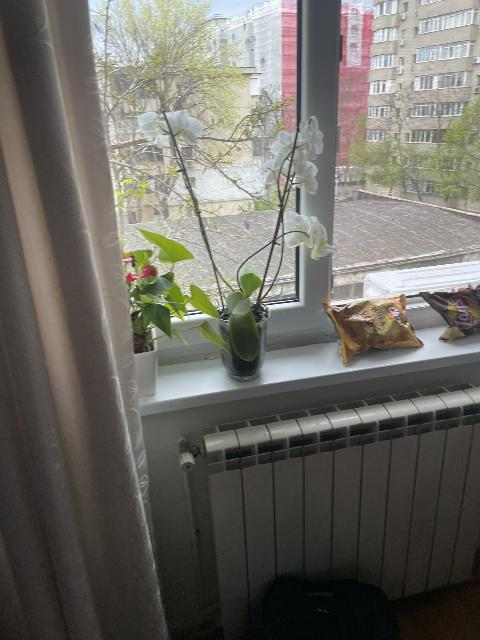Chio Hula Hoops Cheese 70g: (325, 294, 421, 364)
Lays Beef Grilled Ribs 125g: (417, 283, 480, 341)
